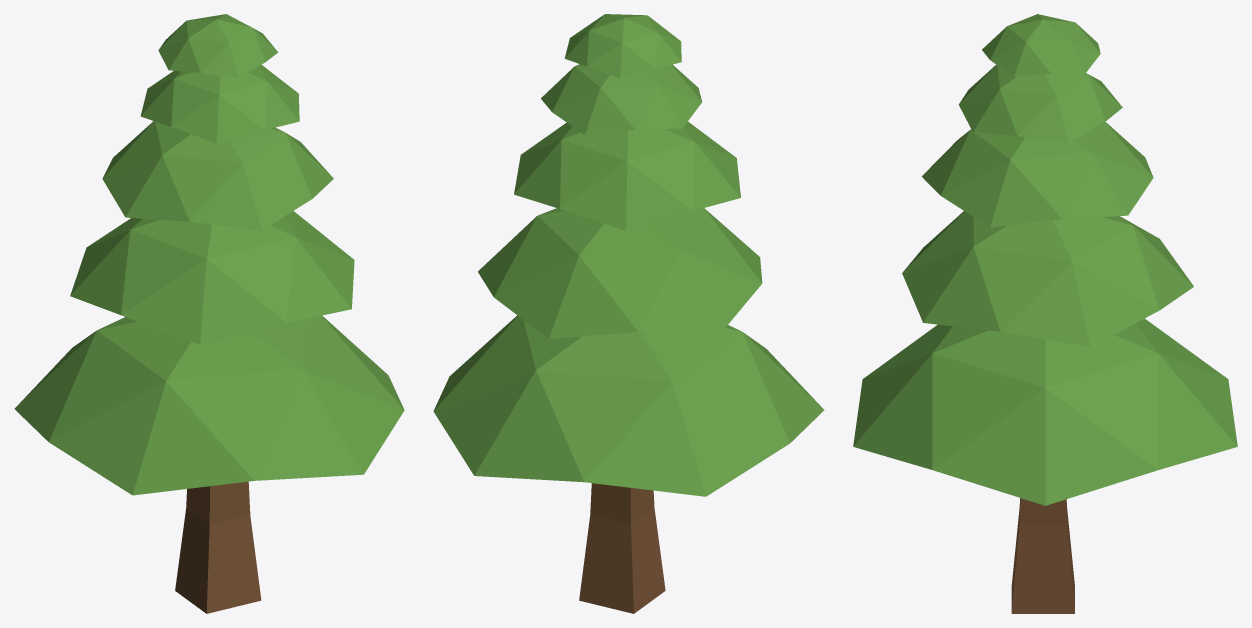
The model's file is tree3.fbx.
The picture shows the model from 3 angles, left to right: view 1: azimuth 30°, elevation 25°; view 2: azimuth 150°, elevation 25°; view 3: azimuth 270°, elevation 25°; orthographic projection.
Visible parts, largest first — view 1: 平面; view 2: 平面; view 3: 平面.
Part boxes in pixels (x1,y1,x2,y2): 平面: (14, 14, 404, 613); 平面: (433, 14, 824, 613); 平面: (853, 14, 1237, 613).
Bounding box in the file's own units: 454 × 737 × 443.
